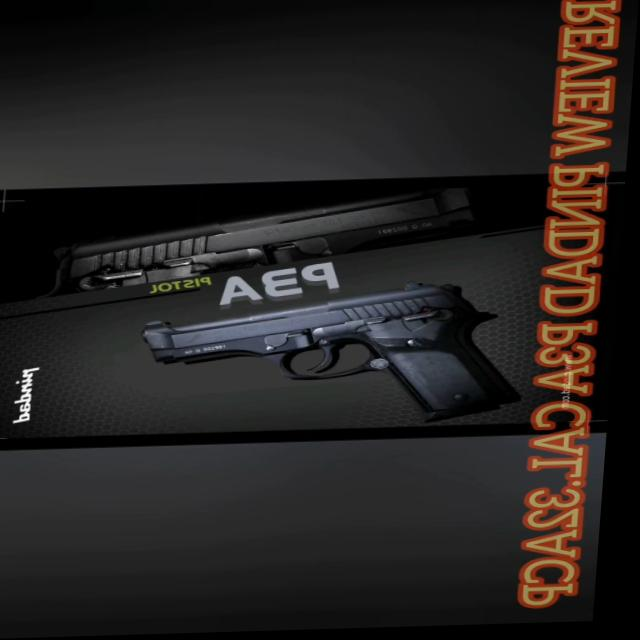handgun: (130, 279, 539, 435)
